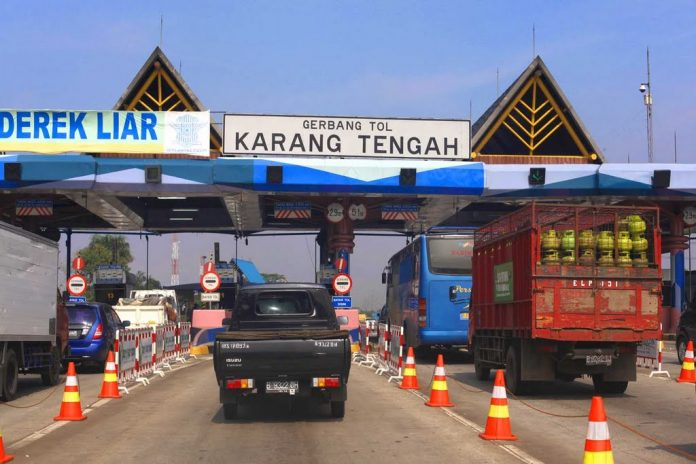plate: (267, 379, 294, 394)
